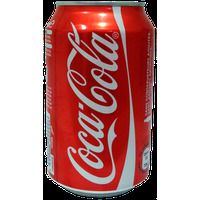coke: (45, 1, 154, 198)
